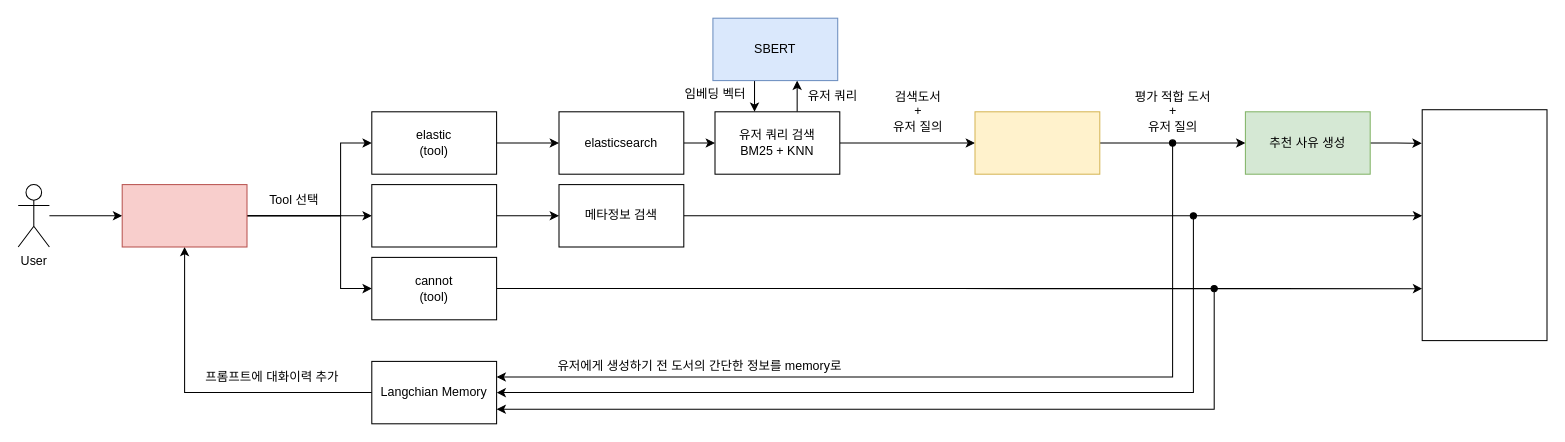
The diagram is 1565 pixels wide and 442 high, and some of its shapes have lost their labels. Here are the shapes that lost their labels. From the top down, the centre of each, then its label:
At (1037,142): "검색결과 평가 모듈".
At (184,215): "Langchain Agent".
At (434,215): "booksearch (tool)".
At (1484,225): "웹 출력".
